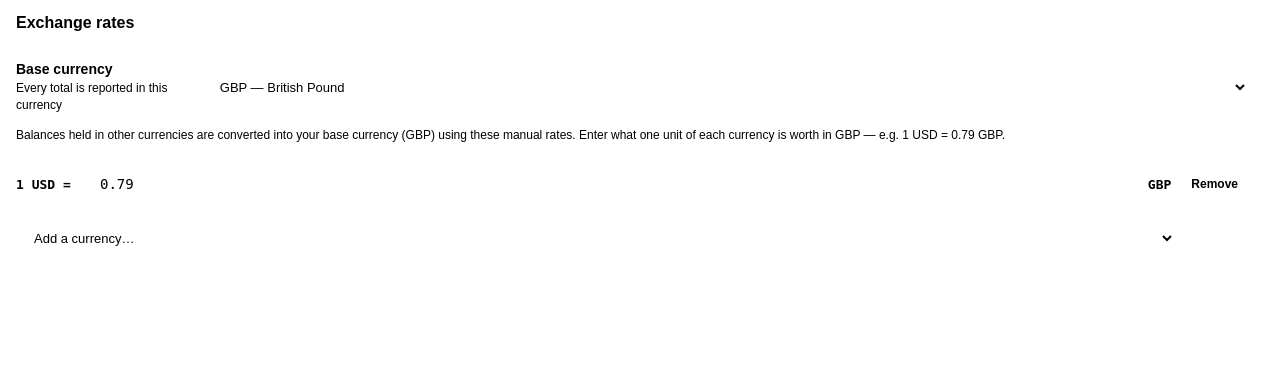
Test: ExchangeRatesCard › shows the server's reason verbatim when the switch is rejected
Select "EUR — Euro" in the dropdown named "Base currency" at [725, 87], box x1=202 y1=69 x2=1248 y2=106
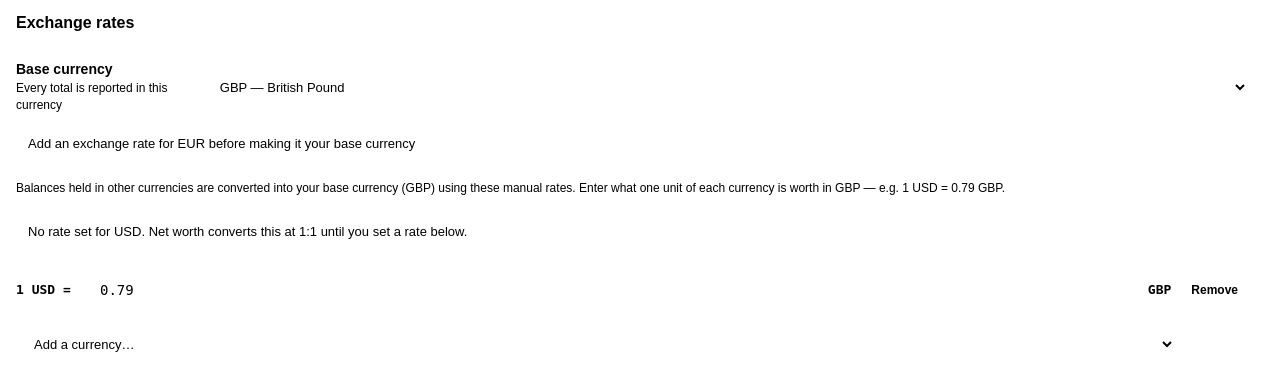
Result: the text "Add an exchange rate for EUR before making it your base currency" is shown at x1=28 y1=136 x2=415 y2=151
